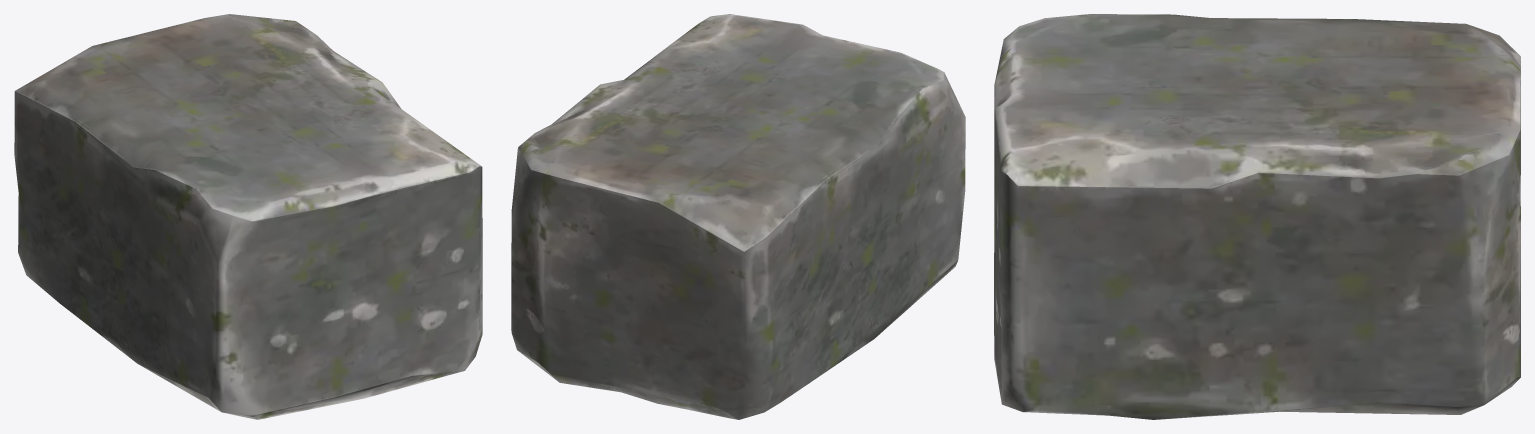
The picture shows the model from 3 angles, left to right: view 1: azimuth 30°, elevation 25°; view 2: azimuth 150°, elevation 25°; view 3: azimuth 270°, elevation 25°; orthographic projection. The views are drawn at different scales.
Visible parts, largest first — view 1: SM_River_Bridge_Unique_Bricks_02_LOD0; view 2: SM_River_Bridge_Unique_Bricks_02_LOD0; view 3: SM_River_Bridge_Unique_Bricks_02_LOD0.
Boxes of the visible parts, <box> form: SM_River_Bridge_Unique_Bricks_02_LOD0: <box>14,14,482,419</box>; SM_River_Bridge_Unique_Bricks_02_LOD0: <box>511,14,965,419</box>; SM_River_Bridge_Unique_Bricks_02_LOD0: <box>994,14,1520,419</box>.
Bounding box in the file's own units: 0.6848 × 0.5283 × 0.9671.
Materials: 1 (1 with a texture image).
